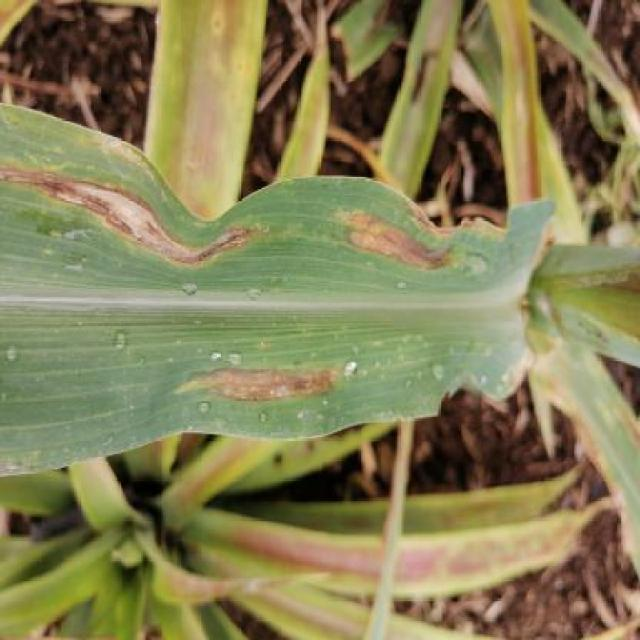Corn_Leaf_Blight: (0, 98, 549, 471)
